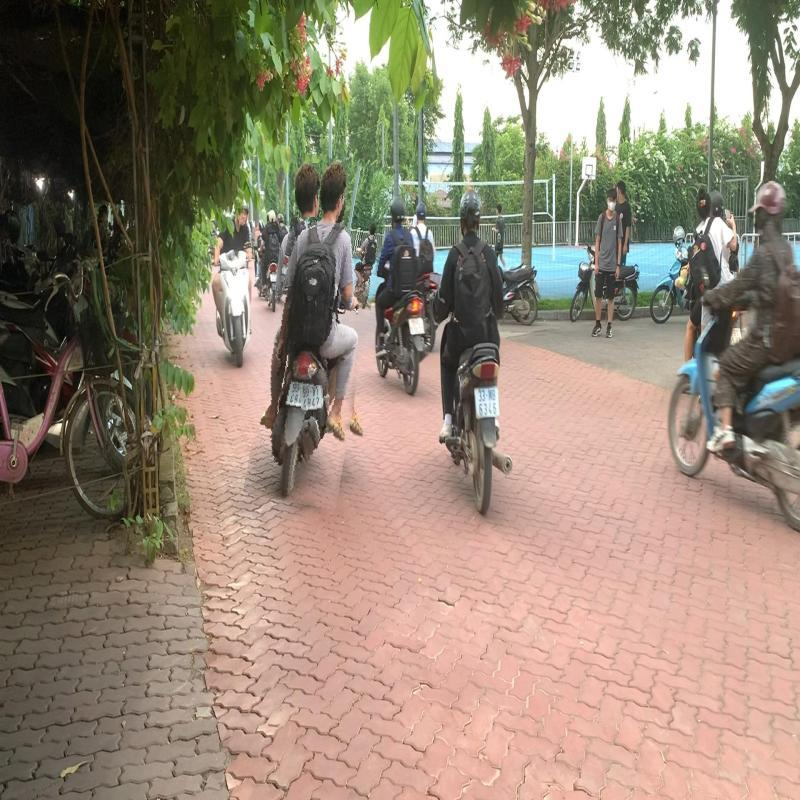licenseplate: (300, 386, 324, 411)
motorcyclist: (258, 156, 381, 508)
nohelmet: (296, 162, 320, 217)
